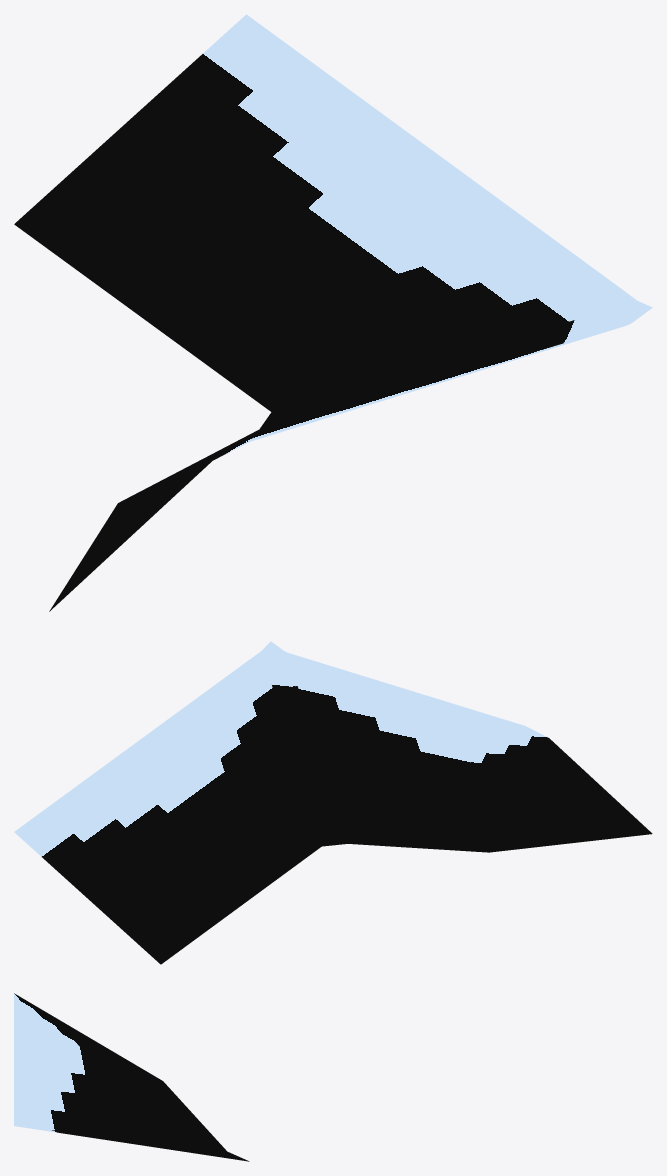
3 views of the same model, one above another, from view 1: azimuth 30°, elevation 25°; view 2: azimuth 150°, elevation 25°; view 3: azimuth 270°, elevation 25° (orthographic). The views are drawn at different scales.
Size of the model in its own units: 0.8584 by 0.2149 by 1.
1 material, 1 textured.
